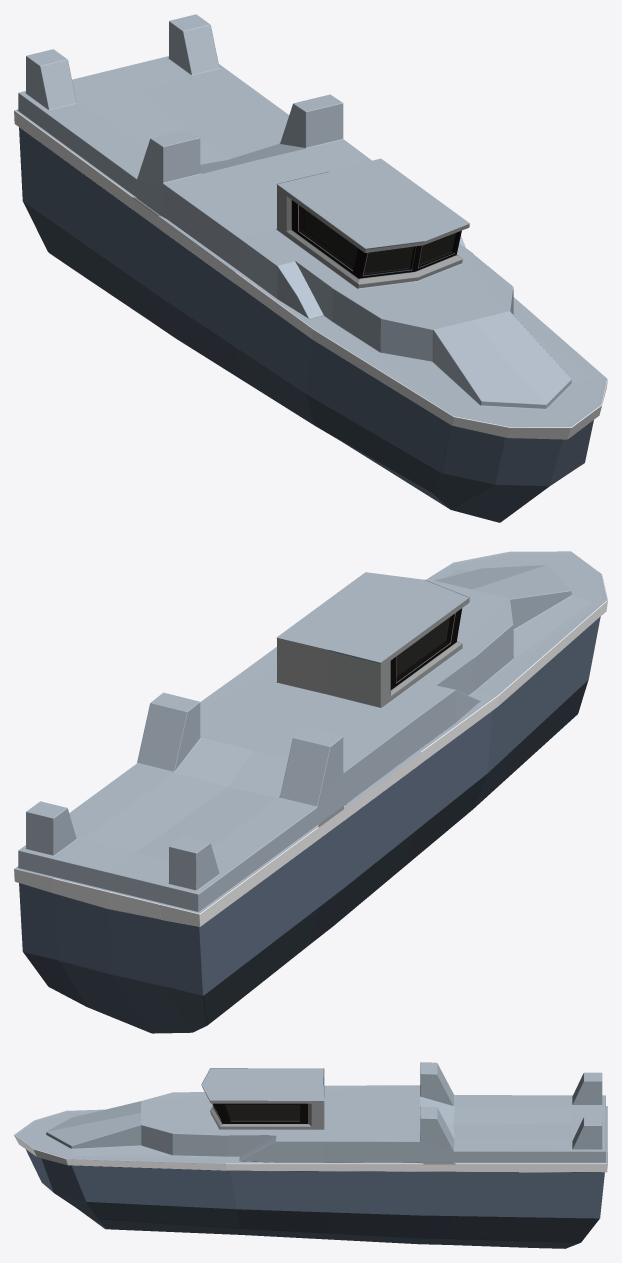
File: boat_medium_03.fbx
The picture shows the model from 3 angles, top to bottom: view 1: azimuth 30°, elevation 25°; view 2: azimuth 150°, elevation 25°; view 3: azimuth 270°, elevation 25°; orthographic projection. The views are drawn at different scales.
Visible parts, largest first — view 1: Cube; view 2: Cube; view 3: Cube.
Boxes of the visible parts, <box> form: Cube: <box>14,14,607,522</box>; Cube: <box>14,551,607,1033</box>; Cube: <box>14,1062,607,1248</box>.
Size of the model in its own units: 286 by 372 by 1235.
